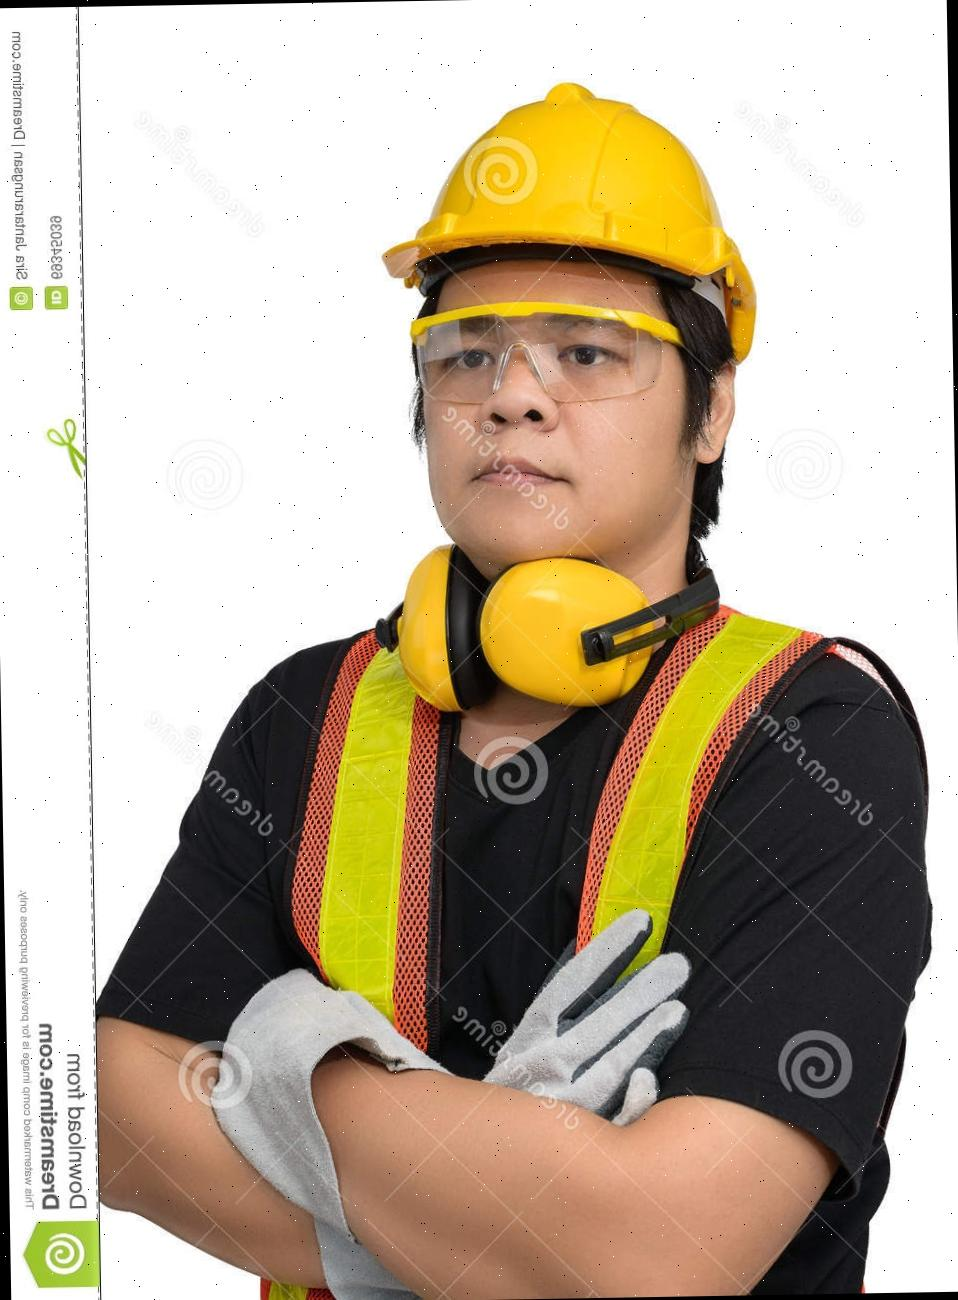helmet: (383, 71, 767, 359)
wear: (222, 652, 929, 1104)
